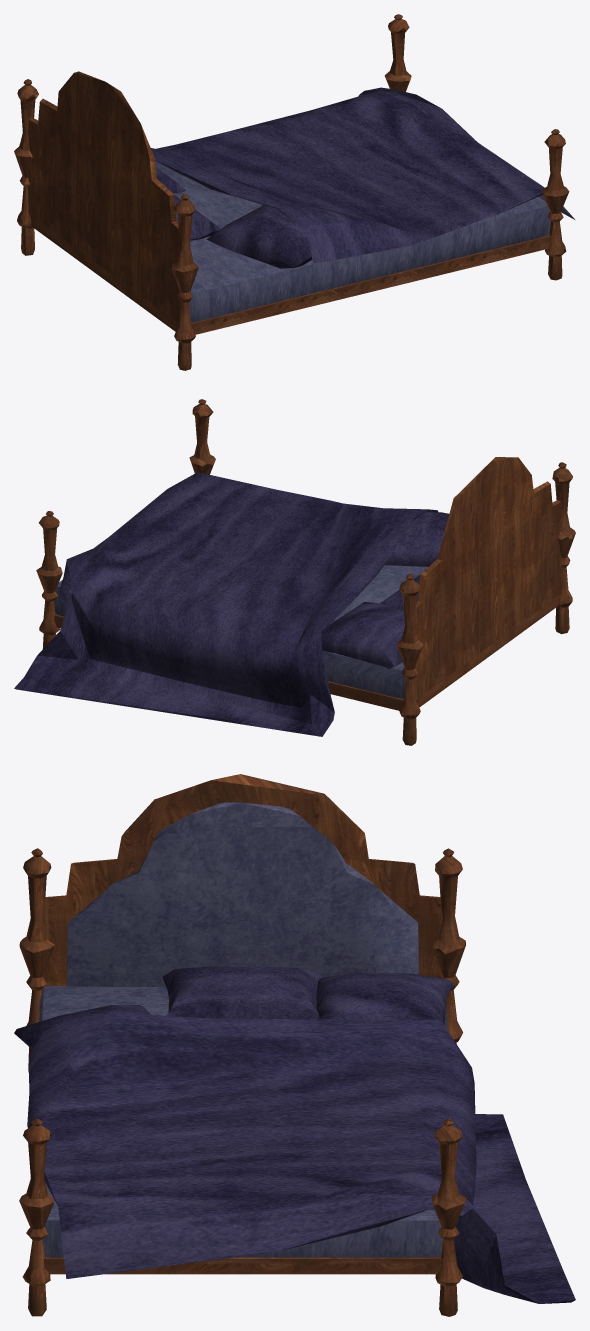
Rendered from d_bed.fbx.
The picture shows the model from 3 angles, top to bottom: view 1: azimuth 30°, elevation 25°; view 2: azimuth 150°, elevation 25°; view 3: azimuth 270°, elevation 25°; orthographic projection. The views are drawn at different scales.
Visible parts, largest first — view 1: Cube; view 2: Cube; view 3: Cube.
Boxes of the visible parts, x1=… form: Cube: x1=14, y1=14, x2=574, y2=370; Cube: x1=14, y1=399, x2=575, y2=745; Cube: x1=14, y1=774, x2=575, y2=1316.
Bounding box in the file's own units: 1216 × 647 × 1092.
